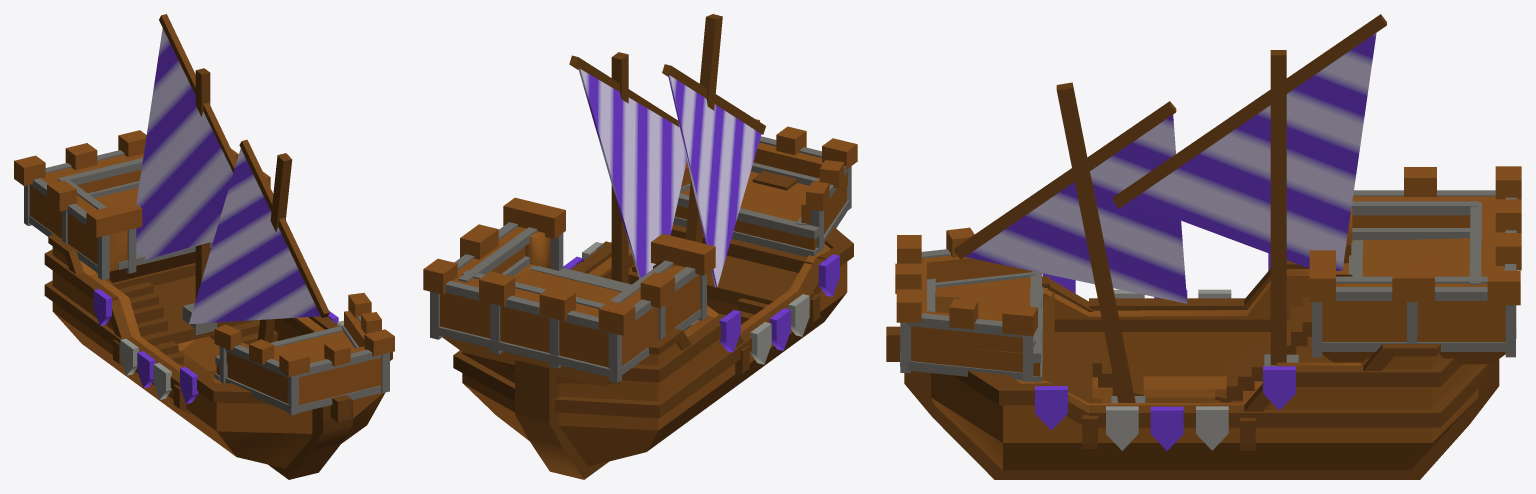
File: trooptransportship.fbx
The picture shows the model from 3 angles, left to right: view 1: azimuth 30°, elevation 25°; view 2: azimuth 150°, elevation 25°; view 3: azimuth 270°, elevation 25°; orthographic projection. The views are drawn at different scales.
Parts seen in each view (by area): view 1: polySurface43; view 2: polySurface43; view 3: polySurface43.
Boxes of the visible parts, <box> form: polySurface43: <box>14,14,394,479</box>; polySurface43: <box>423,14,857,479</box>; polySurface43: <box>886,14,1521,479</box>.
Size of the model in its own units: 113 by 201 by 252.
1 material, 1 textured.
